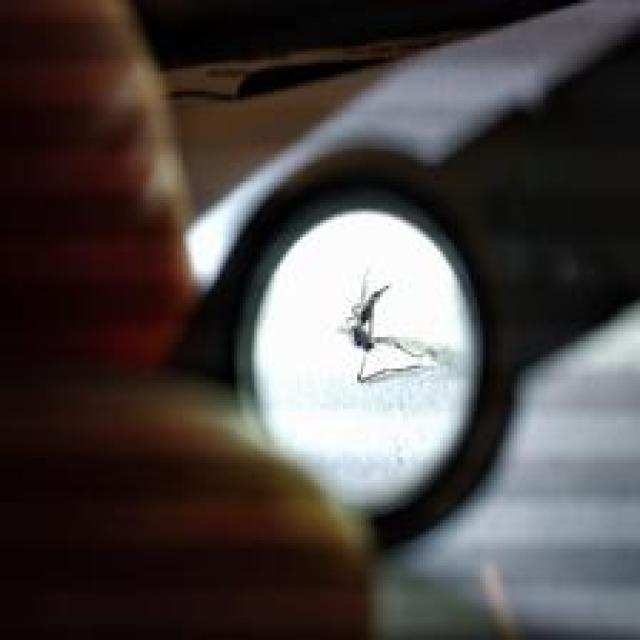Aedes albopictus: (340, 271, 449, 386)
